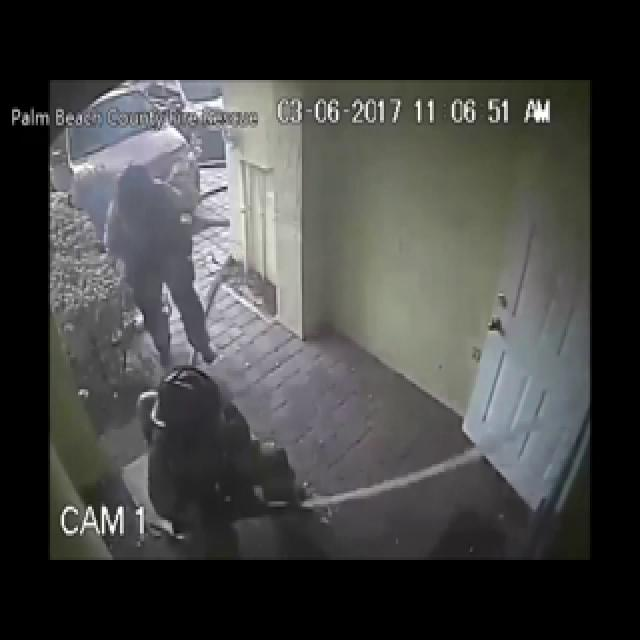explosion: (90, 38, 337, 463)
